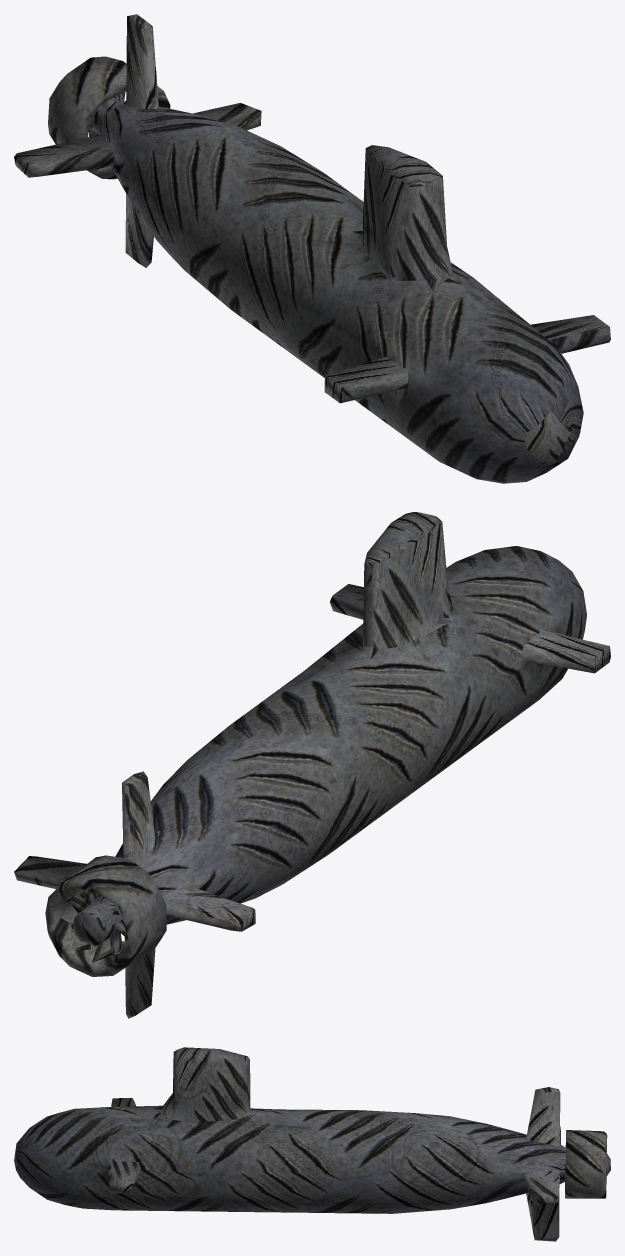
The model's file is submarino3.obj.
3 renders of one model, top to bottom at view 1: azimuth 30°, elevation 25°; view 2: azimuth 150°, elevation 25°; view 3: azimuth 270°, elevation 25°, orthographic. The views are drawn at different scales.
Parts seen in each view (by area): view 1: Submarine.001; view 2: Submarine.001; view 3: Submarine.001.
Part boxes in pixels (x1,y1,x2,y2): Submarine.001: (14, 14, 610, 483); Submarine.001: (14, 512, 610, 1018); Submarine.001: (14, 1047, 610, 1241).
Size of the model in its own units: 2.53 by 2.68 by 7.63.
